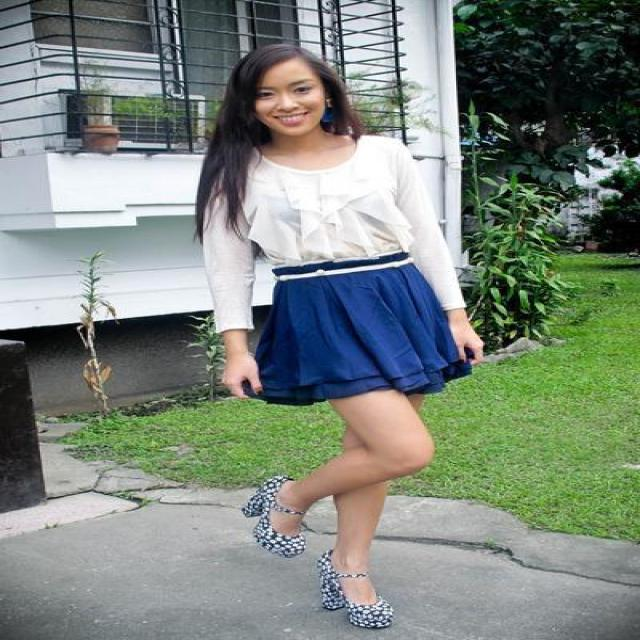shirt: (203, 131, 472, 332)
shoe: (243, 481, 392, 630)
skirt: (242, 252, 470, 405)
